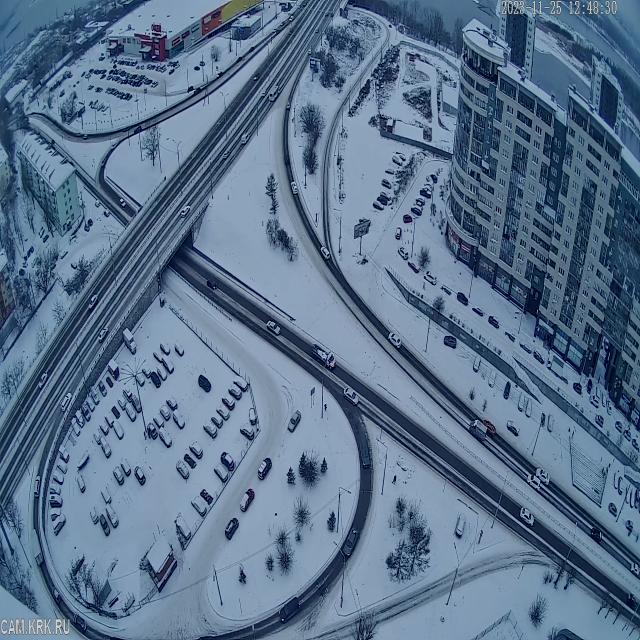car: (311, 344, 336, 371), (278, 597, 299, 623), (31, 530, 44, 568), (342, 527, 358, 557), (547, 353, 564, 380), (469, 419, 486, 443), (52, 512, 66, 538), (176, 516, 190, 542), (257, 457, 272, 481), (359, 439, 371, 469), (213, 460, 228, 484), (123, 328, 136, 355), (105, 504, 119, 529), (224, 517, 239, 540), (240, 488, 254, 512), (287, 410, 301, 433), (192, 494, 206, 517), (220, 450, 234, 473), (343, 387, 359, 407), (98, 437, 112, 459), (482, 416, 496, 438), (120, 592, 135, 612), (455, 512, 466, 539), (527, 472, 541, 493), (159, 427, 172, 449), (111, 464, 124, 486), (133, 464, 146, 486), (240, 422, 254, 442), (203, 419, 217, 439), (189, 440, 203, 460), (175, 460, 189, 480), (521, 507, 534, 528), (536, 466, 549, 487), (266, 318, 281, 336), (216, 402, 230, 421), (197, 374, 211, 393), (73, 615, 87, 634), (172, 410, 185, 430), (165, 392, 178, 412), (507, 418, 520, 438), (221, 392, 235, 410), (100, 485, 112, 506), (112, 420, 124, 441), (108, 359, 119, 381), (99, 515, 110, 537), (162, 355, 174, 375), (389, 330, 401, 350), (234, 375, 248, 392), (228, 384, 242, 400), (419, 183, 432, 200), (153, 410, 164, 430), (61, 393, 72, 413), (591, 525, 602, 545), (534, 345, 544, 367), (146, 422, 158, 440), (408, 256, 420, 274), (76, 473, 86, 494), (121, 456, 131, 477), (125, 403, 136, 422), (211, 412, 223, 429), (444, 333, 456, 350), (132, 394, 142, 414), (70, 418, 80, 438), (159, 402, 170, 420), (59, 446, 70, 464), (206, 276, 218, 292), (424, 270, 436, 286), (372, 197, 384, 213), (98, 419, 109, 436), (472, 301, 483, 318), (50, 494, 63, 508), (151, 371, 161, 389), (51, 586, 61, 604), (88, 294, 98, 312), (81, 404, 91, 422), (89, 508, 99, 526), (123, 386, 133, 404), (104, 410, 114, 428), (608, 500, 618, 518), (627, 590, 636, 610), (53, 470, 64, 486), (457, 291, 468, 307), (520, 339, 531, 355), (397, 246, 408, 262), (156, 364, 166, 381), (141, 362, 151, 379), (134, 370, 144, 387), (117, 394, 127, 411), (270, 85, 280, 102), (320, 244, 330, 261), (589, 394, 599, 411), (517, 390, 525, 411), (410, 204, 422, 218), (50, 507, 61, 522), (91, 387, 100, 405), (488, 369, 497, 387), (174, 342, 184, 358), (160, 340, 170, 356), (98, 327, 108, 343), (93, 429, 103, 445), (572, 380, 582, 396), (34, 476, 41, 498), (50, 482, 61, 496), (39, 373, 48, 390), (503, 381, 511, 400), (546, 413, 554, 432), (57, 459, 67, 474), (378, 193, 388, 208), (98, 381, 107, 397), (86, 396, 95, 412), (381, 177, 392, 190), (416, 193, 426, 207), (380, 188, 390, 202), (392, 152, 402, 166), (396, 149, 406, 163), (76, 411, 84, 428), (596, 413, 604, 430), (489, 314, 498, 329), (414, 198, 423, 213), (474, 354, 481, 373), (525, 398, 532, 417), (606, 394, 612, 416), (153, 349, 163, 362), (630, 485, 635, 511), (631, 562, 639, 578), (634, 488, 639, 512), (181, 205, 190, 218), (385, 165, 394, 178), (429, 172, 438, 185), (425, 174, 434, 187), (624, 428, 631, 444), (403, 213, 412, 225), (613, 470, 618, 490), (395, 226, 402, 240), (240, 133, 248, 145), (626, 482, 630, 506), (618, 476, 623, 495), (292, 180, 298, 195), (616, 419, 622, 434), (601, 391, 606, 408), (223, 148, 230, 160), (626, 520, 633, 532), (70, 258, 77, 270), (587, 378, 592, 394), (633, 437, 639, 450), (60, 250, 68, 259), (119, 199, 126, 208), (103, 208, 109, 217), (88, 218, 93, 228), (94, 200, 100, 208), (84, 225, 90, 233), (286, 100, 290, 110)
